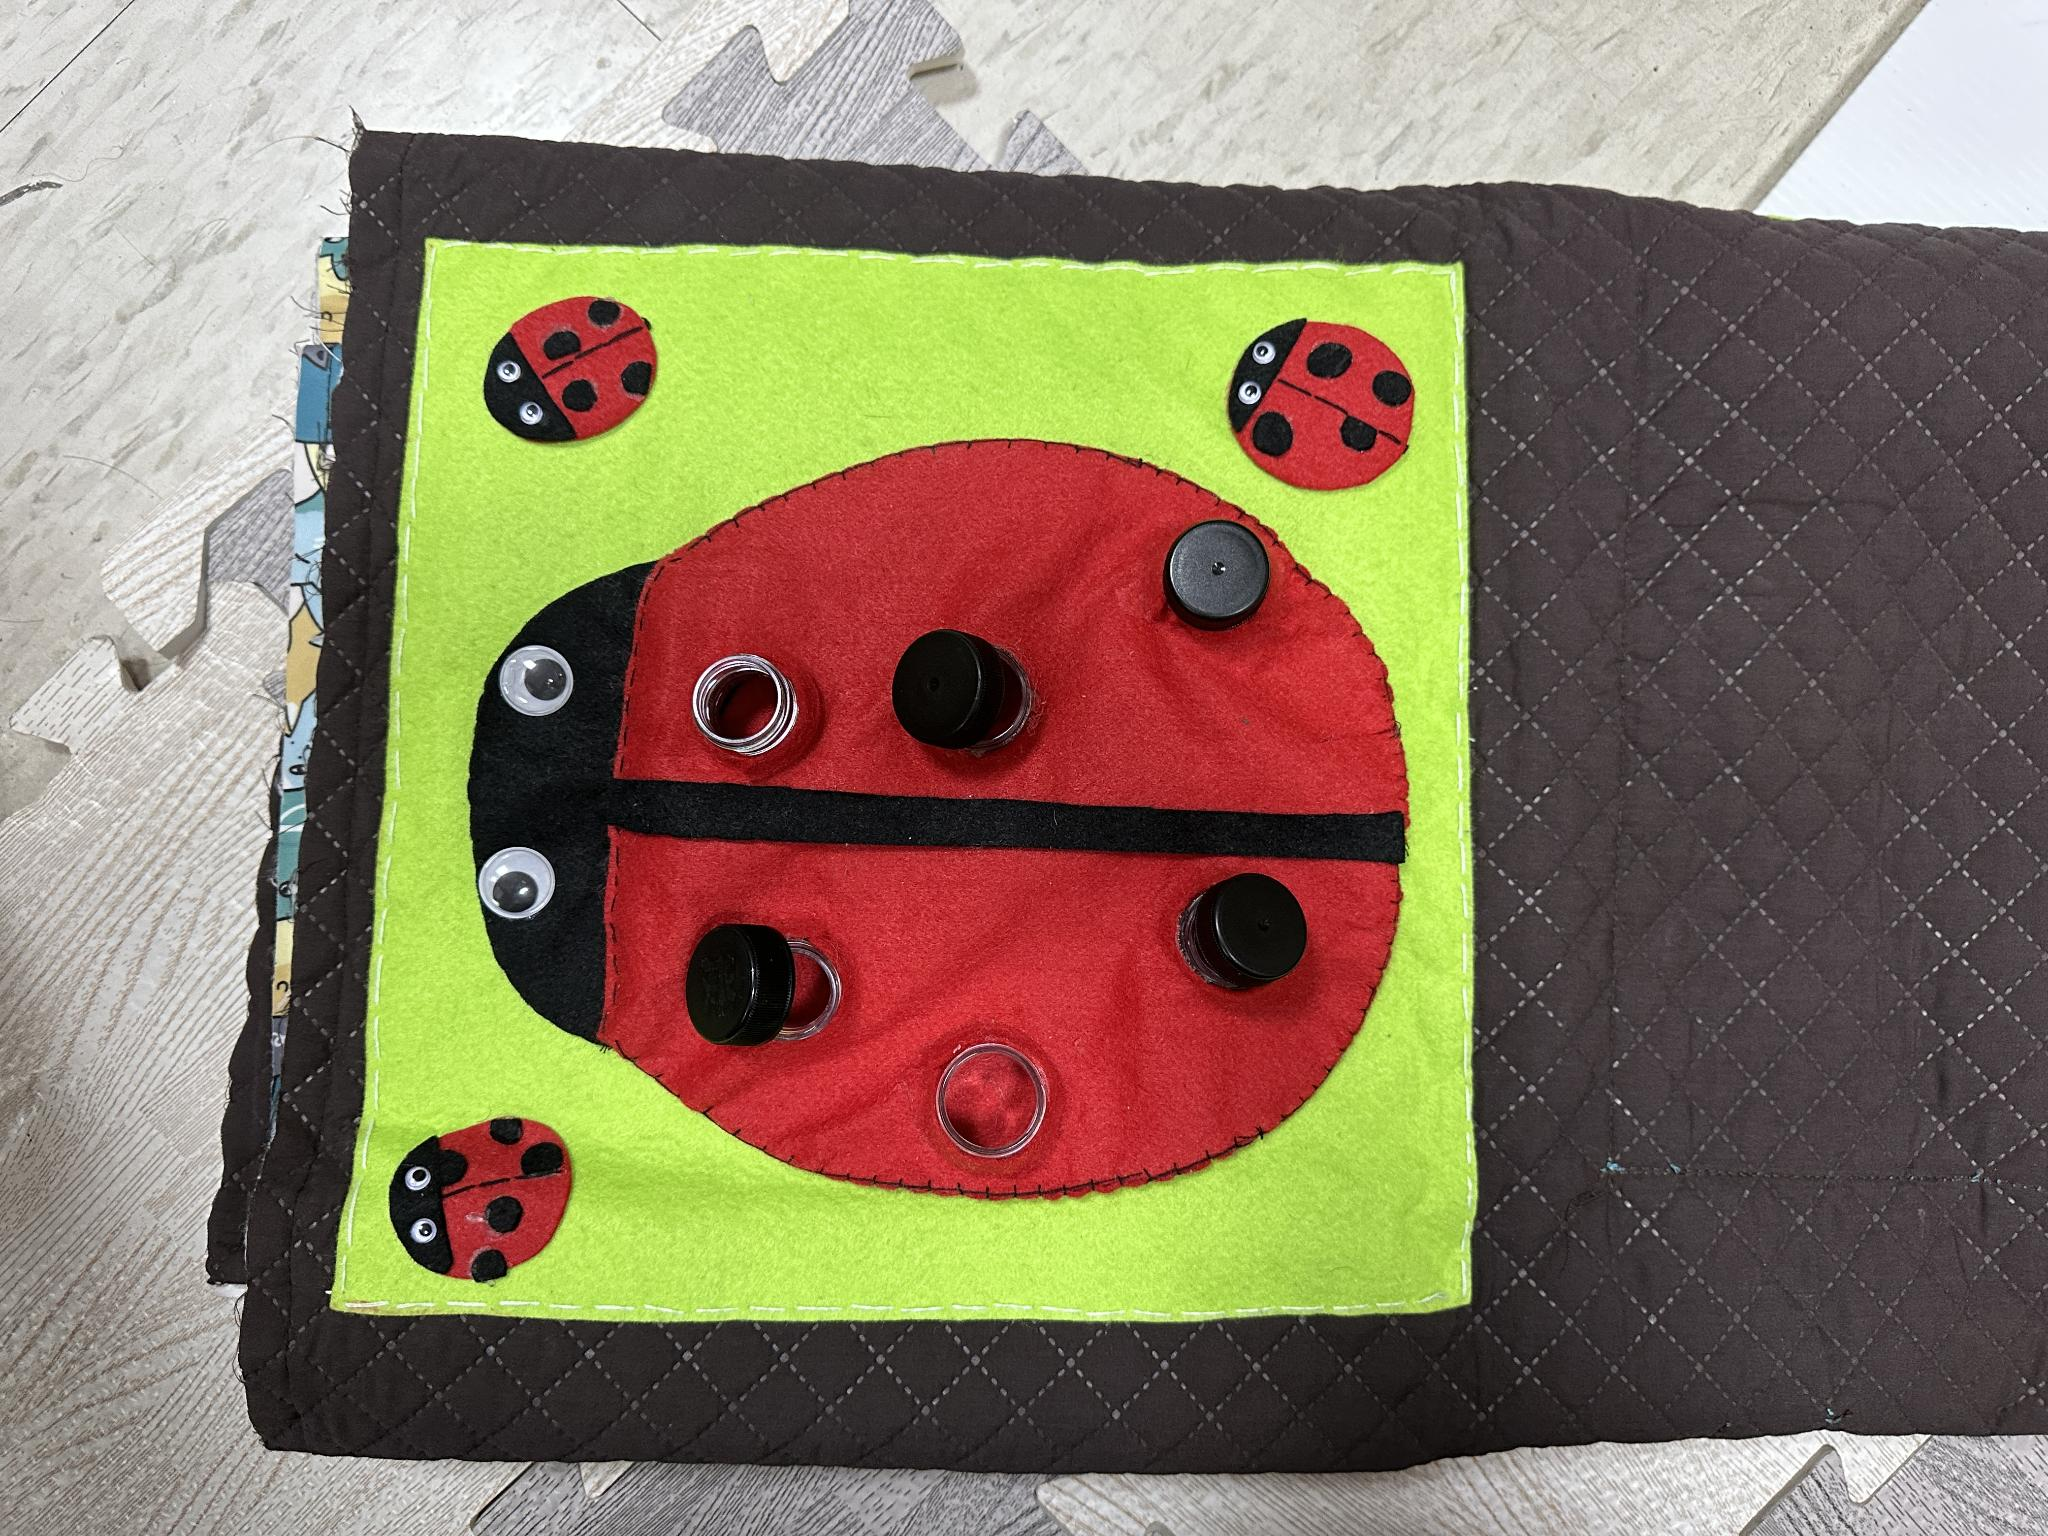cap_ng: (1126, 834, 1343, 1028), (669, 892, 884, 1081), (871, 613, 1074, 787)
cap_ok: (1138, 499, 1292, 645)
